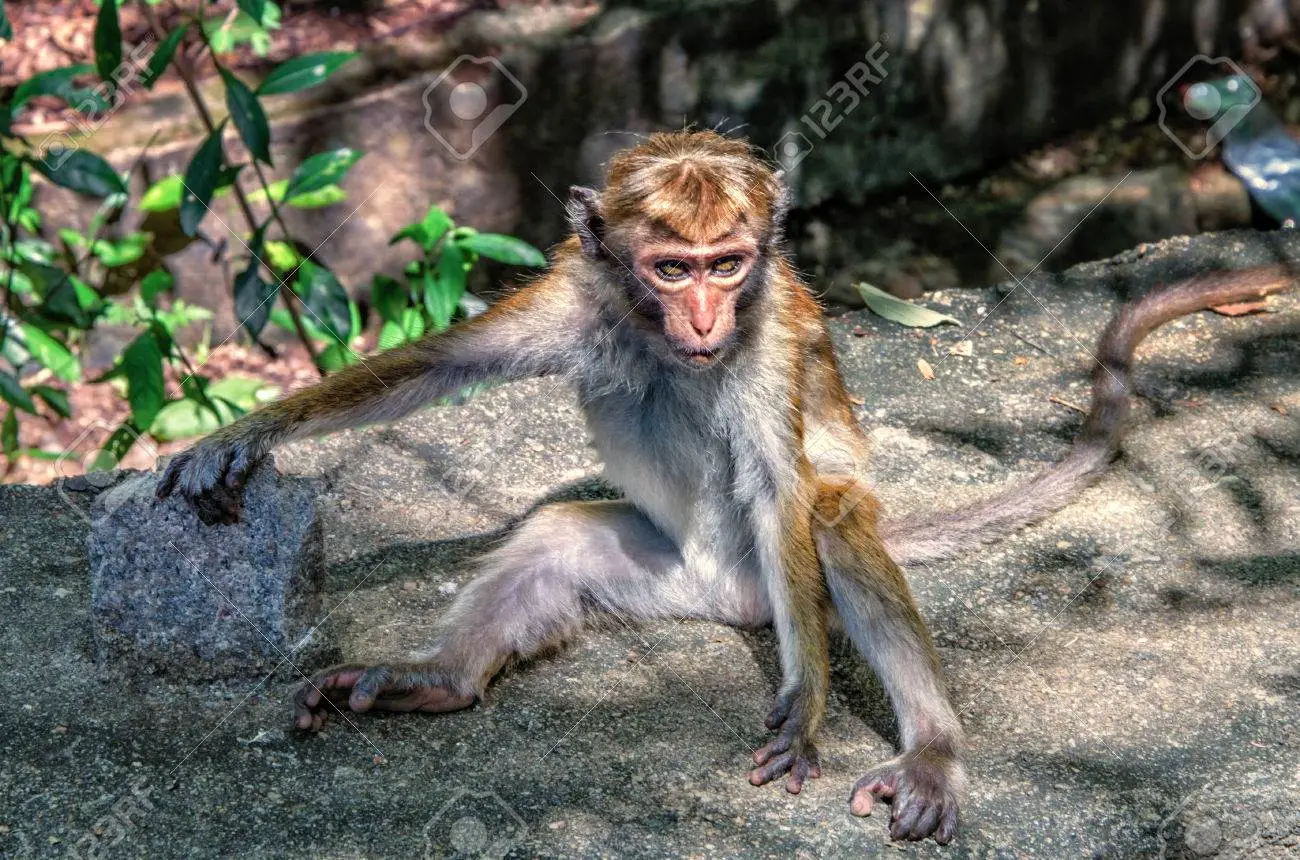Dog: (145, 108, 991, 856)
